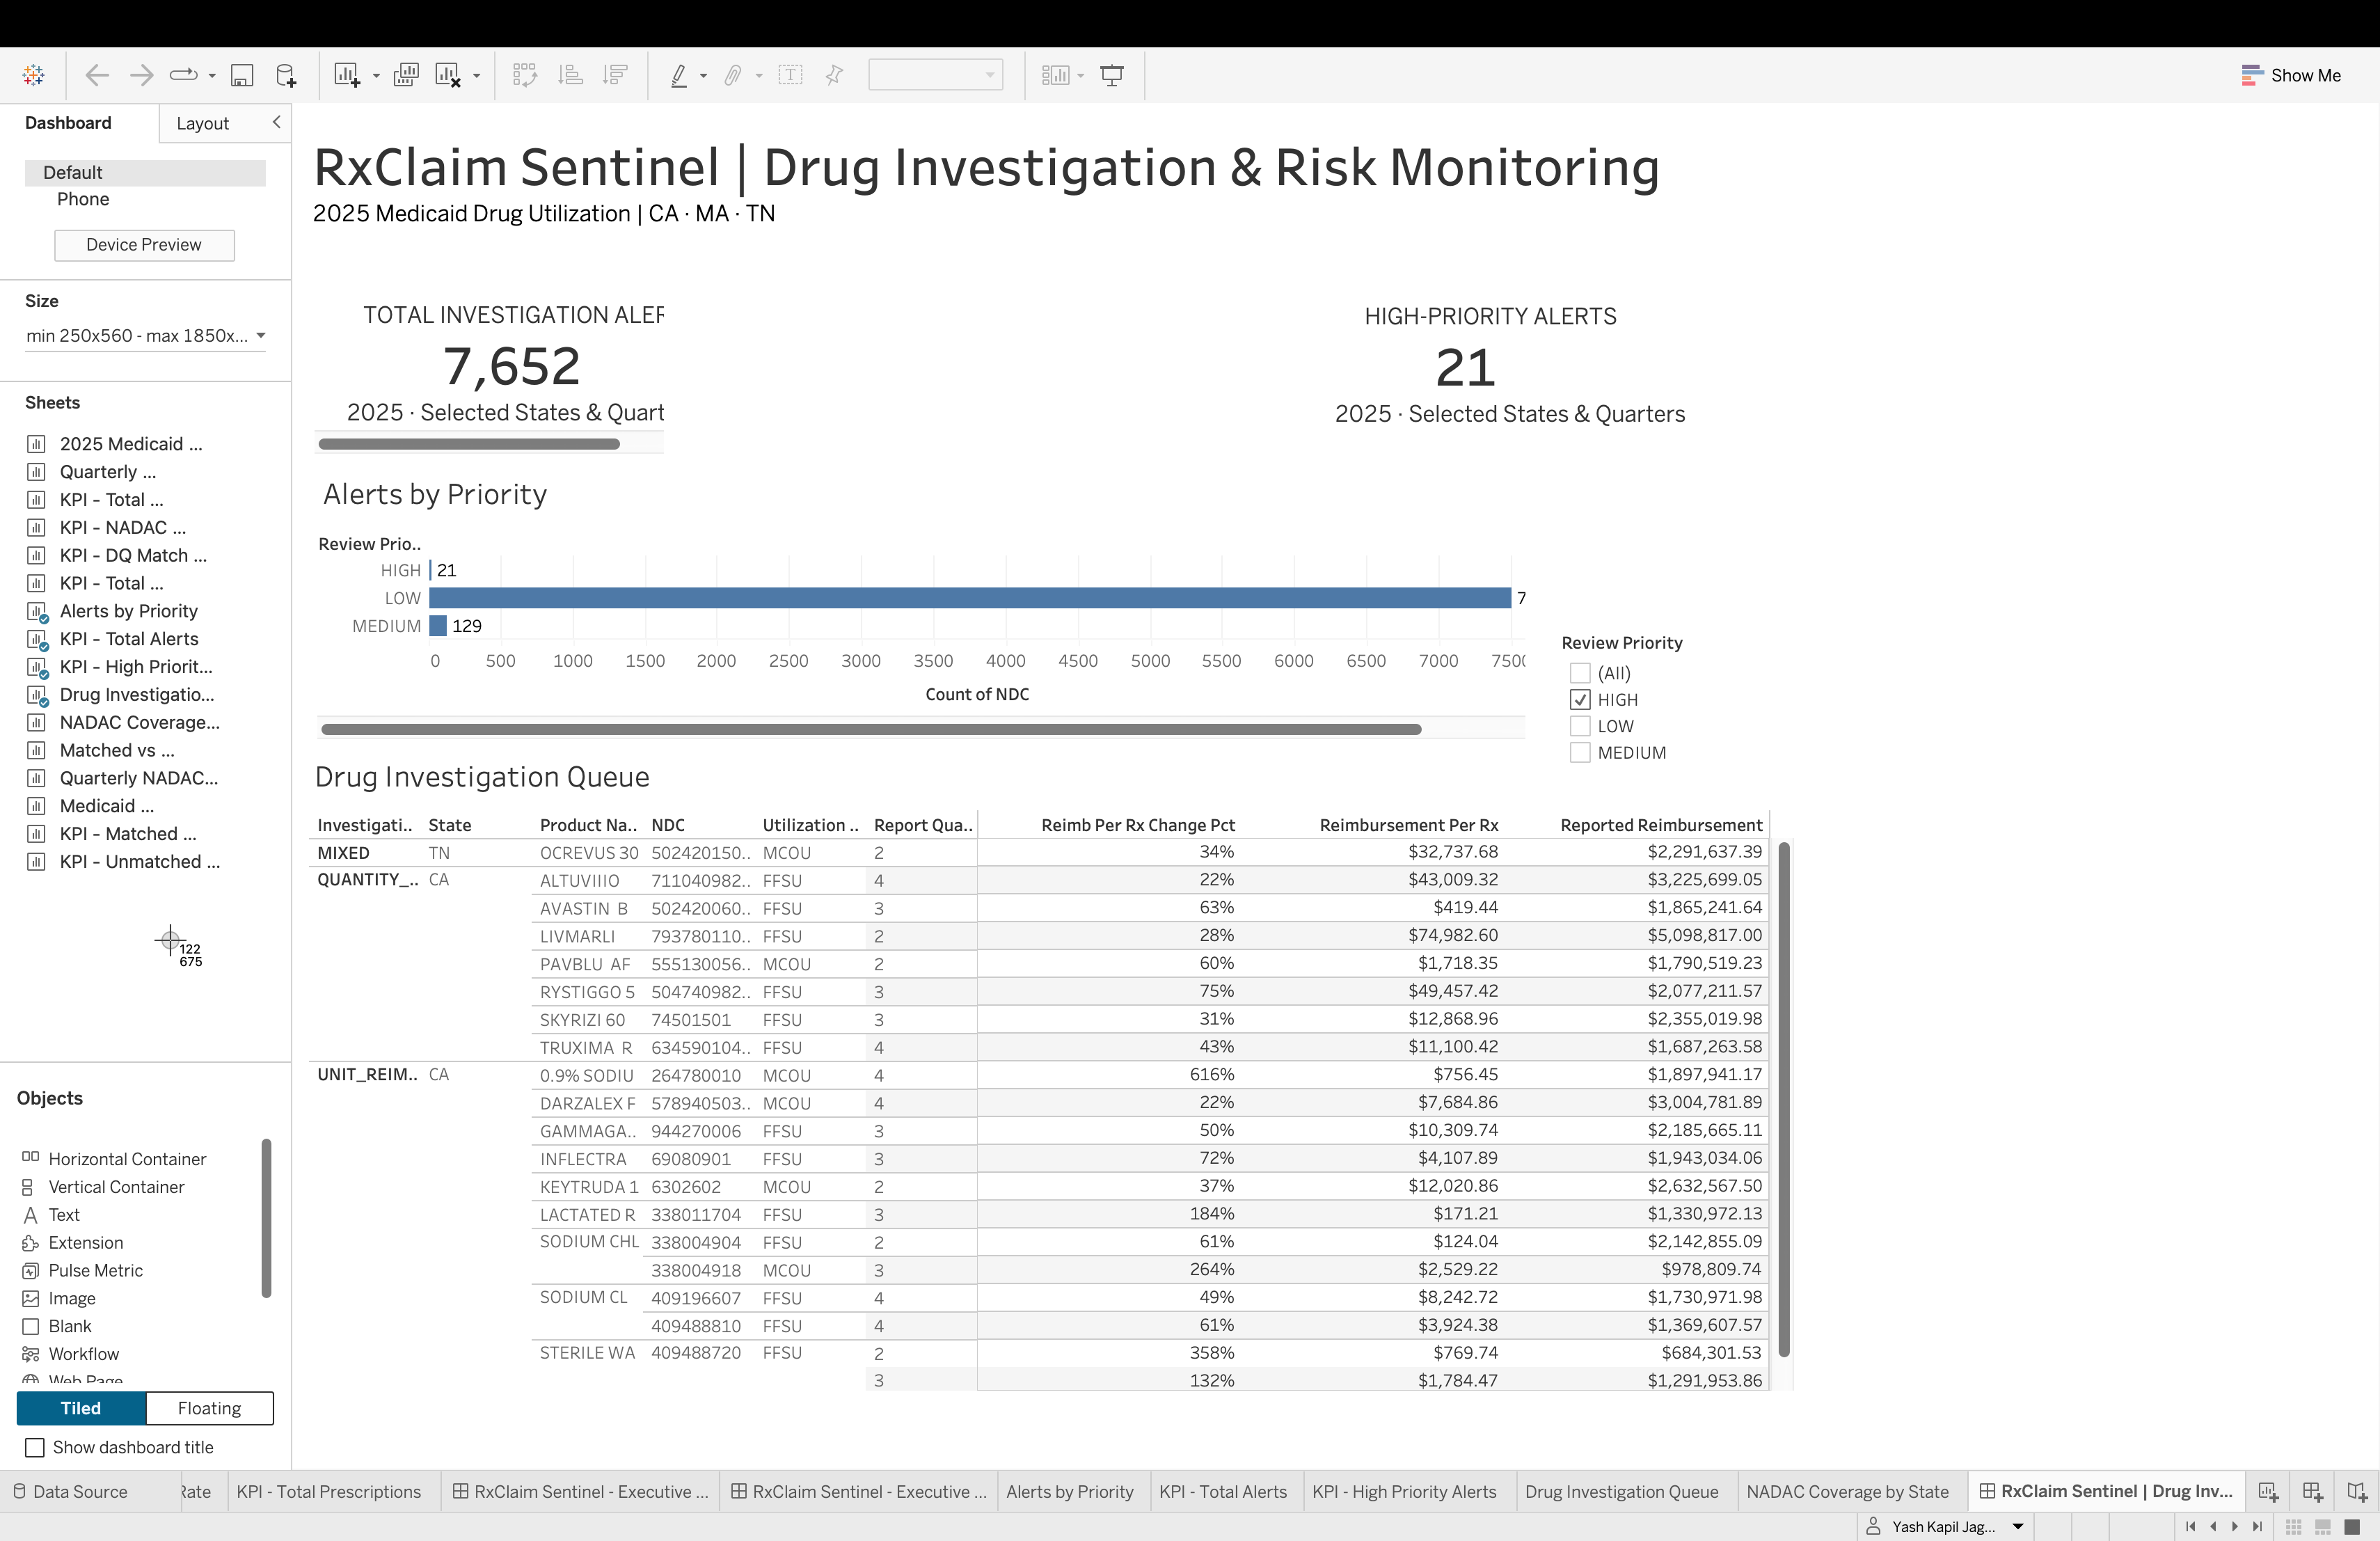

The page's visual inventory and layout, read from the dashboard file:
{"tool":"tableau","page":{"name":"RxClaim Sentinel | Drug Investigation & Risk Monitoring","canvas":[1000,1000],"units":"permille","ordinal":3},"visuals":[{"type":"title","box":[4.7,8.1,990.6,95.1]},{"type":"worksheet","title":"KPI - Total Alerts","mark":"Automatic","box":[10.5,129.6,167.3,136.6]},{"type":"worksheet","title":"KPI - High Priority Alerts","mark":"Automatic","box":[496.8,130.6,207.7,126.5]},{"type":"worksheet","title":"Alerts by Priority","mark":"Bar","rows":["REVIEW_PRIORITY"],"cols":["NDC"],"box":[11.7,267.2,579.3,207.5]},{"type":"filter","title":"Drug Investigation Queue","param":"[federated.1w5ba6d0mfca3a13ilzrm1fnng6l].[none:REVIEW_PRIORITY:nk]","box":[608.5,386.6,115.3,101.2]},{"type":"worksheet","title":"Drug Investigation Queue","mark":"Text","rows":["INVESTIGATION_CATEGORY","STATE","PRODUCT_NAME","NDC","UTILIZATION_TYPE","REPORT_QUARTER"],"box":[8.2,473.7,711.5,469.6]}]}

Visuals, with their boxes on the dashboard's canvas, which has no fixed pixel size, in thousandths of its width and height (x1, y1, x2, y2). These are canvas units, not pixel positions in the 2380x1541 screenshot, which may show the page scaled, cropped or inside an application window:
title: [5, 8, 995, 103]
"KPI - Total Alerts" worksheet: [10, 130, 178, 266]
"KPI - High Priority Alerts" worksheet: [497, 131, 704, 257]
"Alerts by Priority" worksheet (Bar marks): [12, 267, 591, 475]
"Drug Investigation Queue" filter: [608, 387, 724, 488]
"Drug Investigation Queue" worksheet (Text marks): [8, 474, 720, 943]
